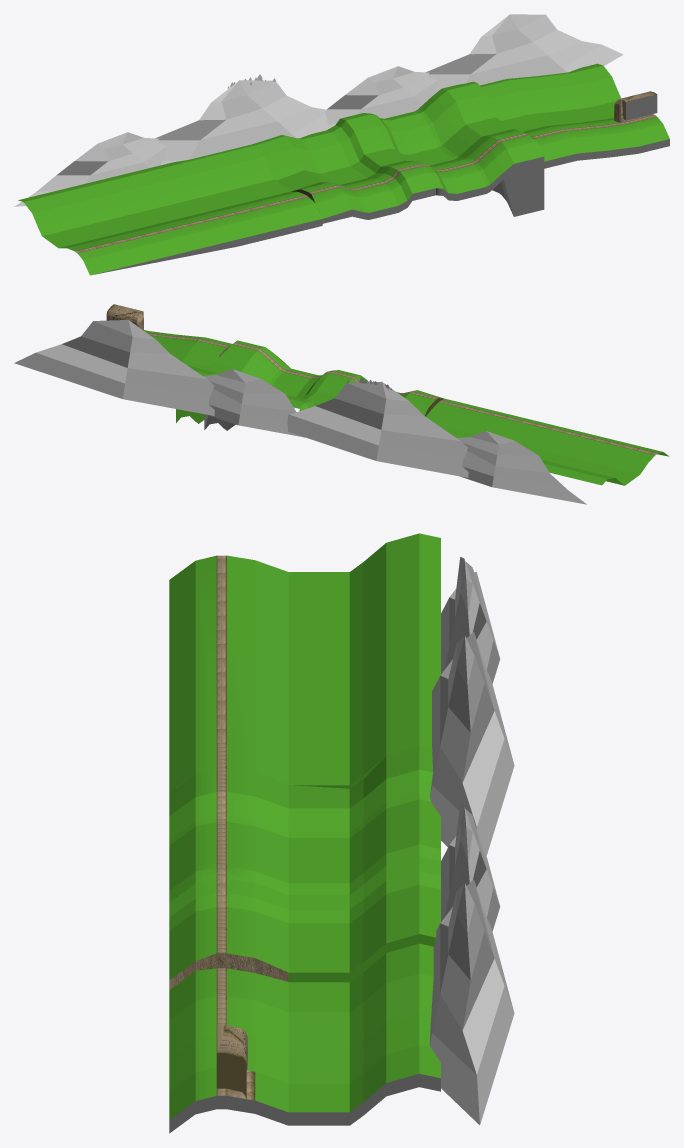
File: meadow.fbx
The picture shows the model from 3 angles, top to bottom: view 1: azimuth 30°, elevation 25°; view 2: azimuth 150°, elevation 25°; view 3: azimuth 270°, elevation 25°; orthographic projection. The views are drawn at different scales.
Parts seen in each view (by area): view 1: Mesh (22); view 2: Mesh (22); view 3: Mesh (22).
Boxes of the visible parts, x1,y1,x2,y2 form: Mesh (22): (14, 14, 669, 275); Mesh (22): (14, 304, 669, 504); Mesh (22): (169, 533, 514, 1133).
Size of the model in its own units: 189634 by 37490 by 48998.
Materials: 24 (2 with a texture image).
